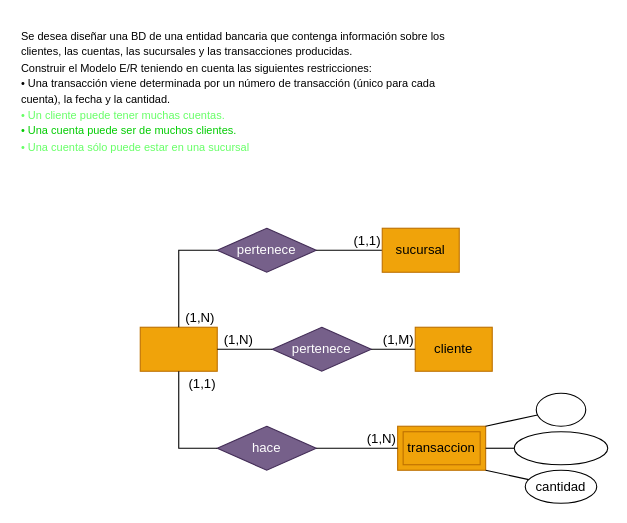
Some shapes in this 627 by 523 pixel diagram are drawn without their labels. Each missing label, with the box of its shape:
cuenta: (139, 326, 217, 371)
fecha: (535, 392, 586, 426)
nTransaccion: (513, 431, 608, 465)
